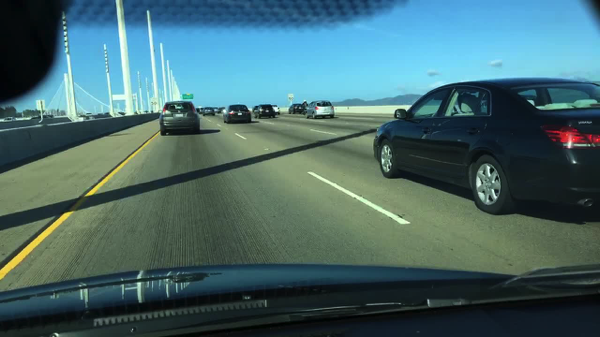car: (373, 79, 598, 216), (160, 100, 199, 135), (222, 104, 252, 124), (305, 100, 335, 119), (253, 104, 277, 119), (287, 104, 303, 116), (202, 106, 215, 116), (271, 104, 281, 116), (2, 118, 18, 122), (30, 117, 50, 120), (42, 114, 53, 119), (251, 106, 258, 113), (194, 107, 200, 114), (199, 107, 205, 114), (219, 107, 225, 114), (213, 106, 218, 114), (86, 112, 93, 117), (97, 112, 104, 116), (104, 112, 110, 115)
motor: (301, 100, 308, 115)
traffic sign: (36, 100, 47, 111), (182, 93, 193, 100), (150, 97, 157, 106), (288, 93, 294, 101)
